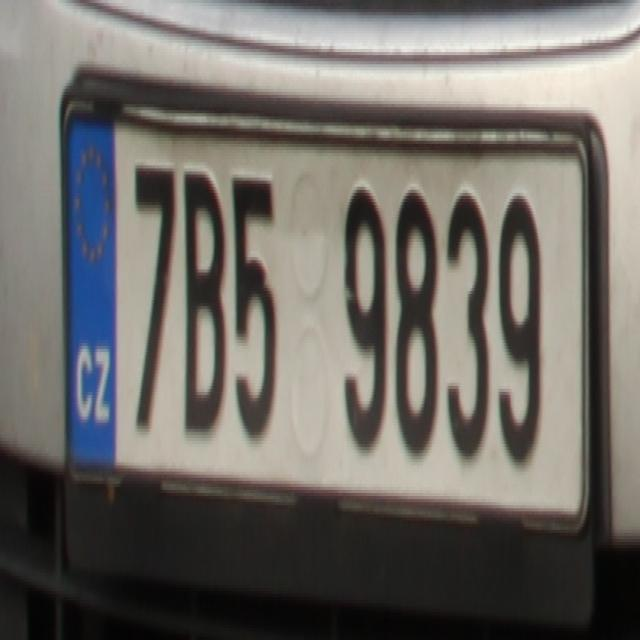3: (448, 184, 492, 453)
5: (229, 165, 279, 435)
7: (129, 159, 177, 435)
8: (394, 184, 437, 453)
9: (342, 178, 388, 450), (497, 184, 542, 462)
B: (184, 162, 228, 438)
